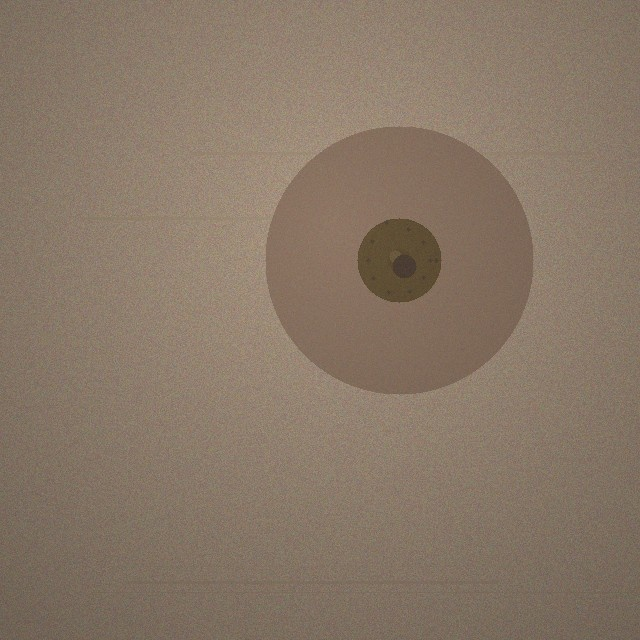cold_weld: (265, 126, 533, 394)
